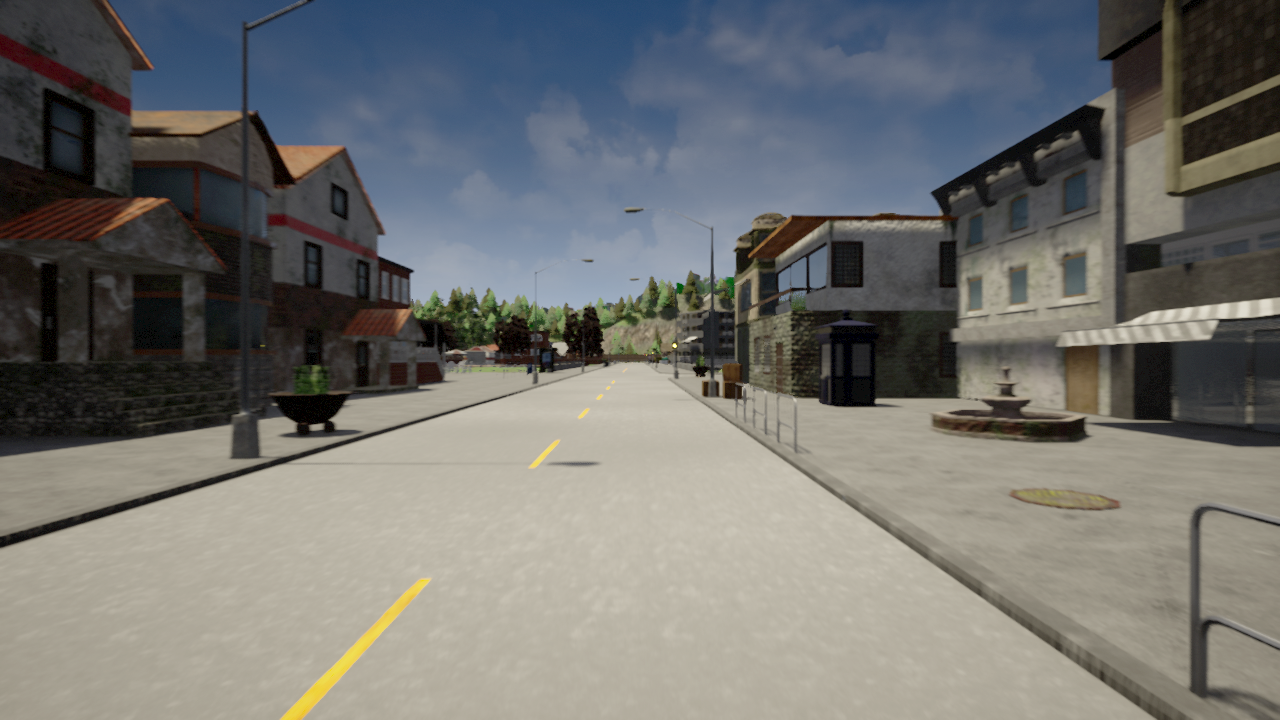yellow: (672, 339, 678, 352)
